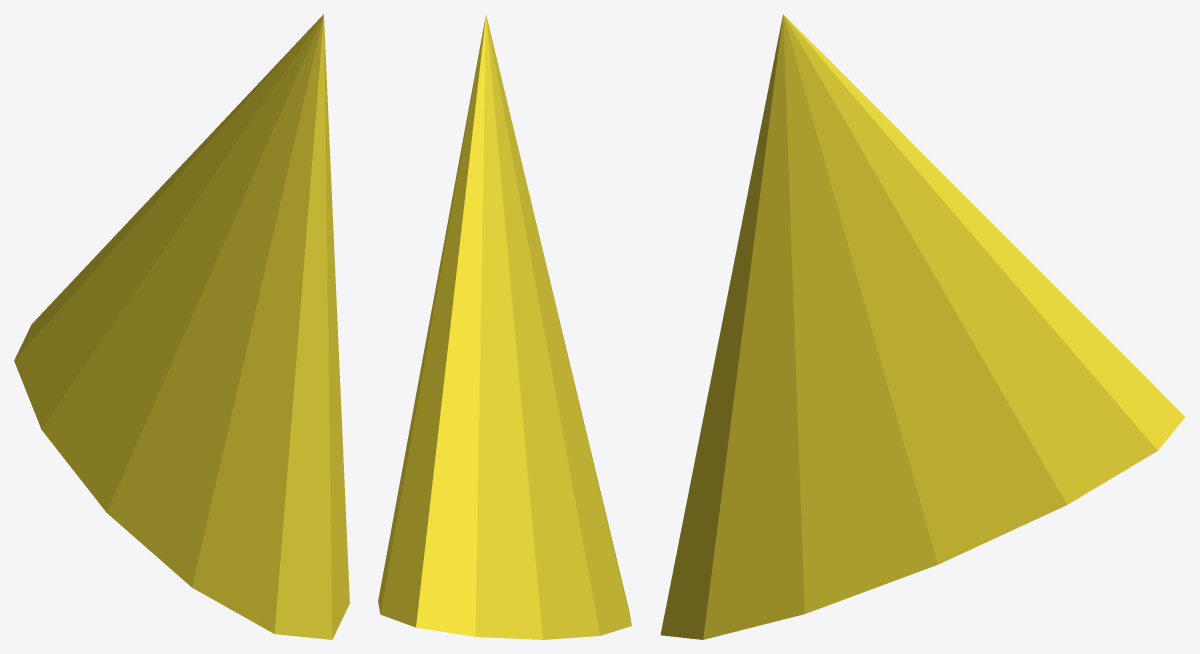
The model's file is n5_n5_group715979619_lev5.001.glb.
3 renders of one model, left to right at view 1: azimuth 30°, elevation 25°; view 2: azimuth 150°, elevation 25°; view 3: azimuth 270°, elevation 25°, orthographic. The views are drawn at different scales.
Parts seen in each view (by area): view 1: n5_n5_group715979619_lev5.001; view 2: n5_n5_group715979619_lev5.001; view 3: n5_n5_group715979619_lev5.001.
Part boxes in pixels (bbox=[...]): n5_n5_group715979619_lev5.001: bbox=[14, 14, 349, 639]; n5_n5_group715979619_lev5.001: bbox=[378, 14, 631, 639]; n5_n5_group715979619_lev5.001: bbox=[660, 14, 1184, 639].
Bounding box in the file's own units: 0.4165 × 1.3 × 0.9577.
